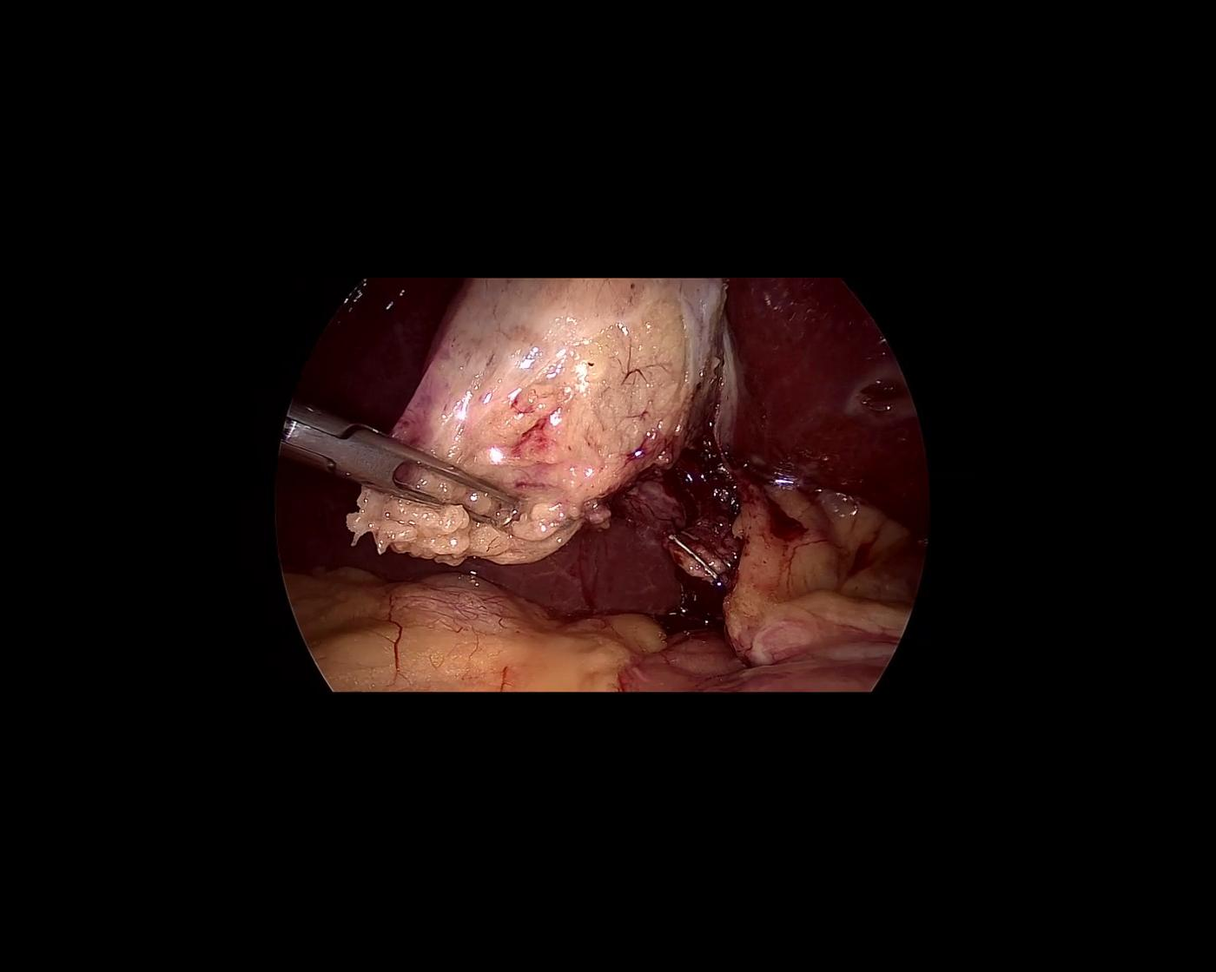Forceps: (274, 398, 541, 542)
Gallbladder: (350, 282, 726, 561)
Liver: (276, 277, 686, 616), (721, 282, 927, 540)
